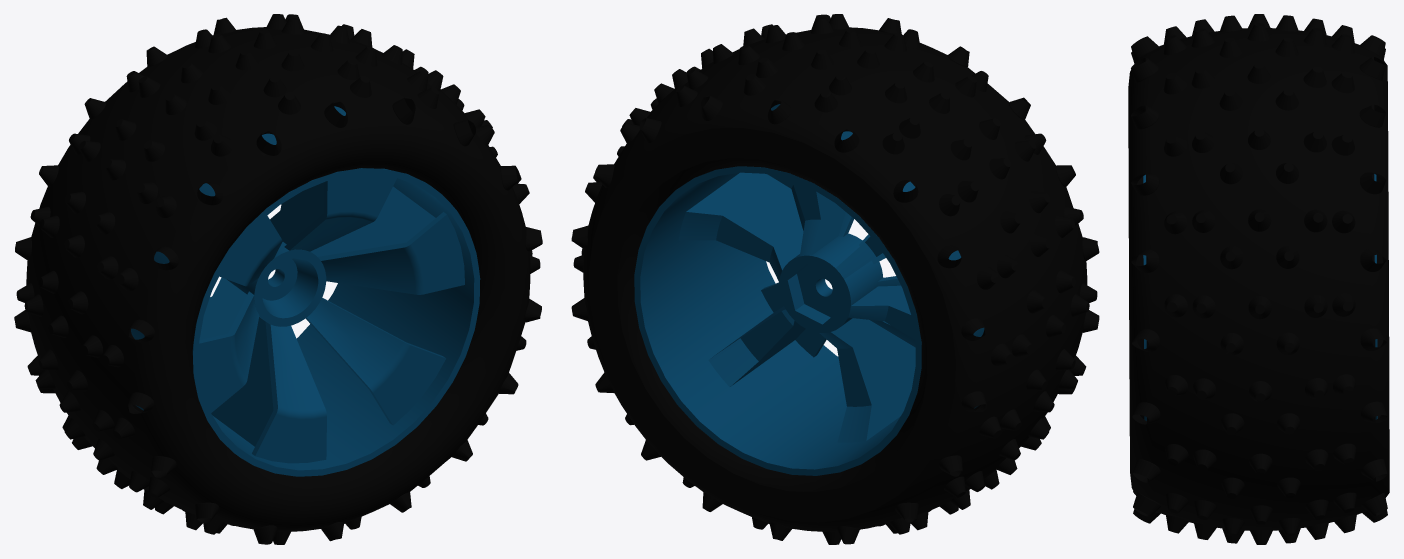
File: Buggy-wheel.glb
3 views of the same model, side by side, from view 1: azimuth 30°, elevation 25°; view 2: azimuth 150°, elevation 25°; view 3: azimuth 270°, elevation 25° (orthographic).
Parts seen in each view (by area): view 1: OpenRC Truggy Tire <119>, OpenRC Truggy Rim <114>; view 2: OpenRC Truggy Tire <119>, OpenRC Truggy Rim <114>; view 3: OpenRC Truggy Tire <119>.
Boxes of the visible parts, bbox=[...] form: OpenRC Truggy Tire <119>: bbox=[14, 14, 542, 544]; OpenRC Truggy Rim <114>: bbox=[131, 106, 480, 476]; OpenRC Truggy Tire <119>: bbox=[571, 14, 1099, 544]; OpenRC Truggy Rim <114>: bbox=[634, 104, 984, 475]; OpenRC Truggy Tire <119>: bbox=[1128, 14, 1389, 544].
Size of the model in its own units: 0.114 by 0.1136 by 0.056.
